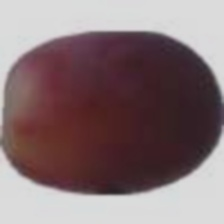grapes: (58, 13, 201, 208)
